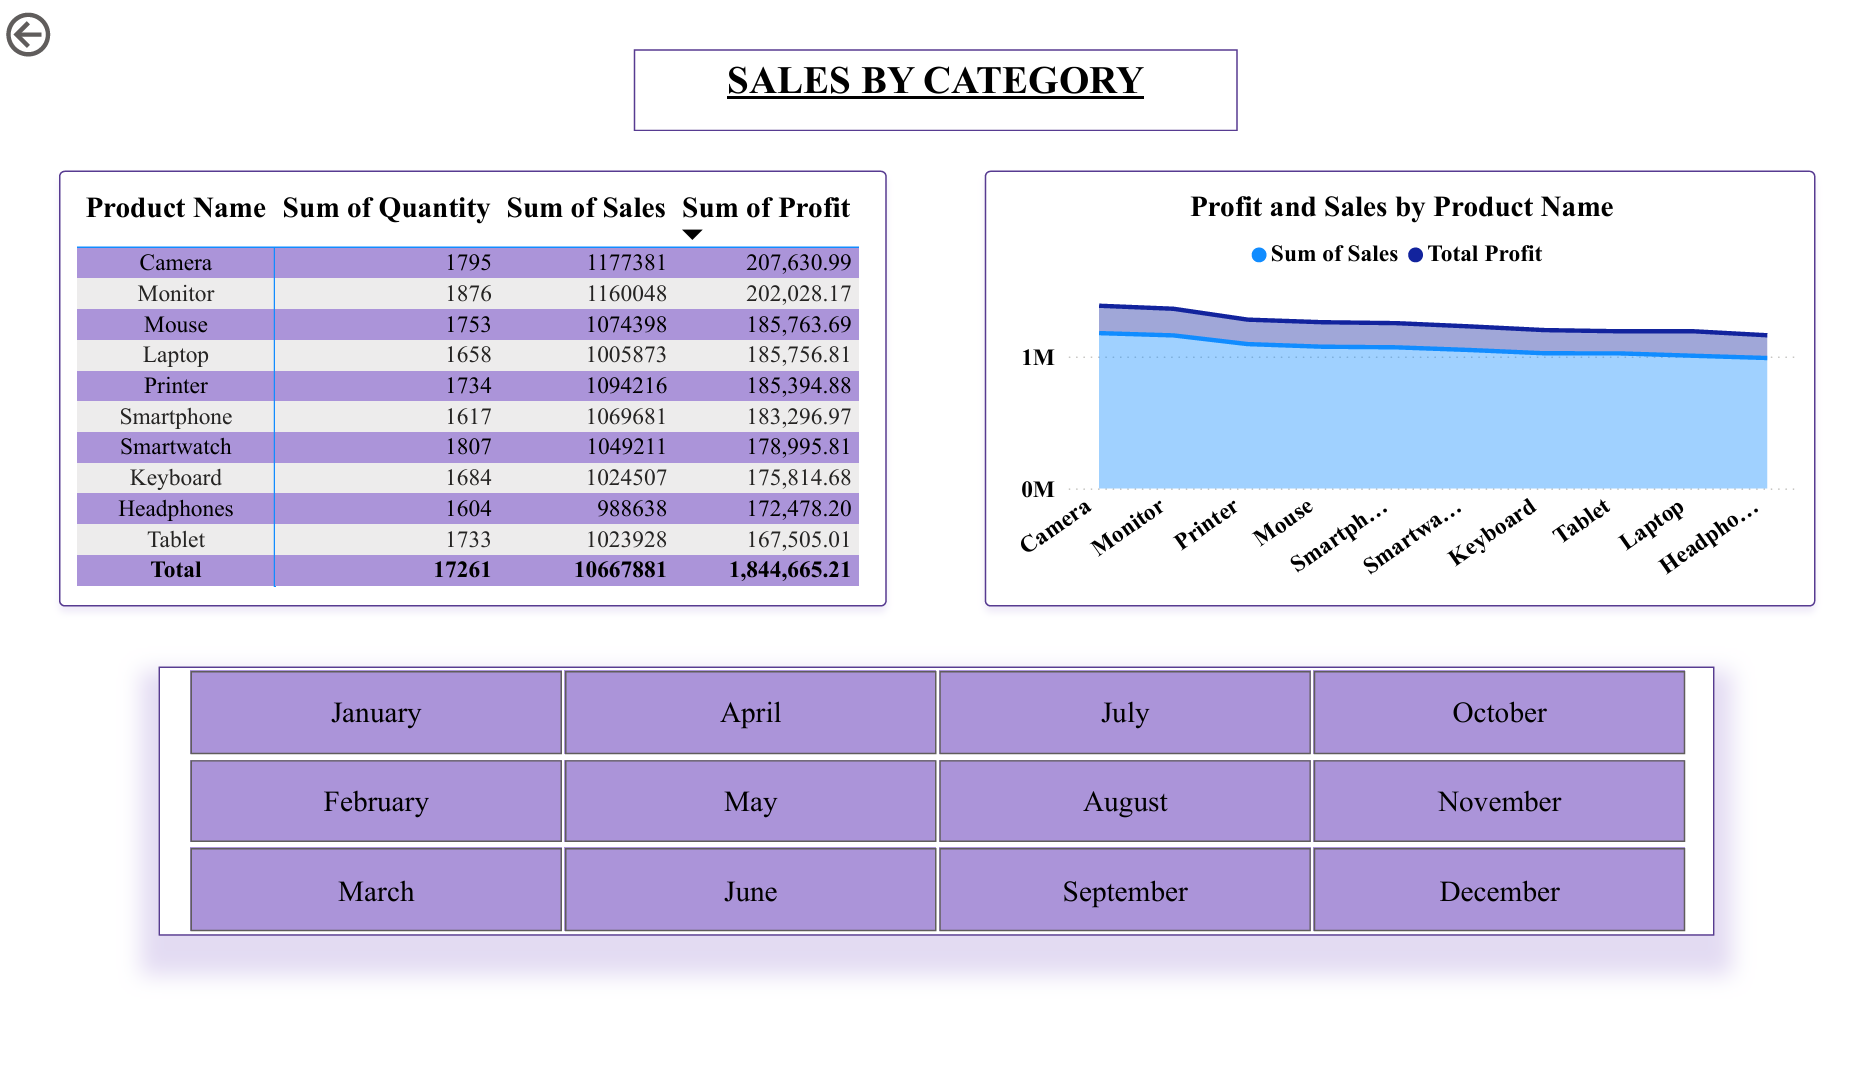

This screenshot's page, from the dashboard's own definition file:
{"tool":"powerbi","page":{"name":"Category","canvas":[1280,720],"ordinal":2},"visuals":[{"type":"pivotTable","fields":{"Rows":["ecommerce_sales_data.Product Name"],"Values":["Sum(ecommerce_sales_data.Quantity)","Sum(ecommerce_sales_data.Sales)","Sum(ecommerce_sales_data.Profit)"]},"box":[41.4,112.6,565.7,297.7],"z":0},{"type":"actionButton","box":[0,0,100,40],"z":1000},{"type":"stackedAreaChart","title":"Profit and Sales by Product Name","fields":{"Category":["ecommerce_sales_data.Product Name"],"Y":["Sum(ecommerce_sales_data.Sales)","ecommerce_sales_data.Total Profit"]},"box":[674.5,112.6,568.3,297.7],"z":2000},{"type":"slicer","fields":{"Values":["ecommerce_sales_data.Order Date.Variation.Date Hierarchy.Month"]},"box":[108.7,451.8,1064.1,183.8],"z":3000},{"type":"textbox","box":[433.7,29.8,413,55.7],"z":4000}]}

Visuals, with their boxes in screenshot pixels (x1, y1, x2, y2), scaled from the page's 1280x720 canvas onto the 1867x1065 screenshot:
pivotTable - ecommerce_sales_data.Product Name x Sum(ecommerce_sales_data.Quantity): region(60, 167, 886, 607)
actionButton: region(0, 0, 146, 59)
"Profit and Sales by Product Name" stackedAreaChart: region(984, 167, 1813, 607)
slicer - ecommerce_sales_data.Order Date.Variation.Date Hierarchy.Month: region(159, 668, 1711, 940)
textbox: region(633, 44, 1235, 126)
